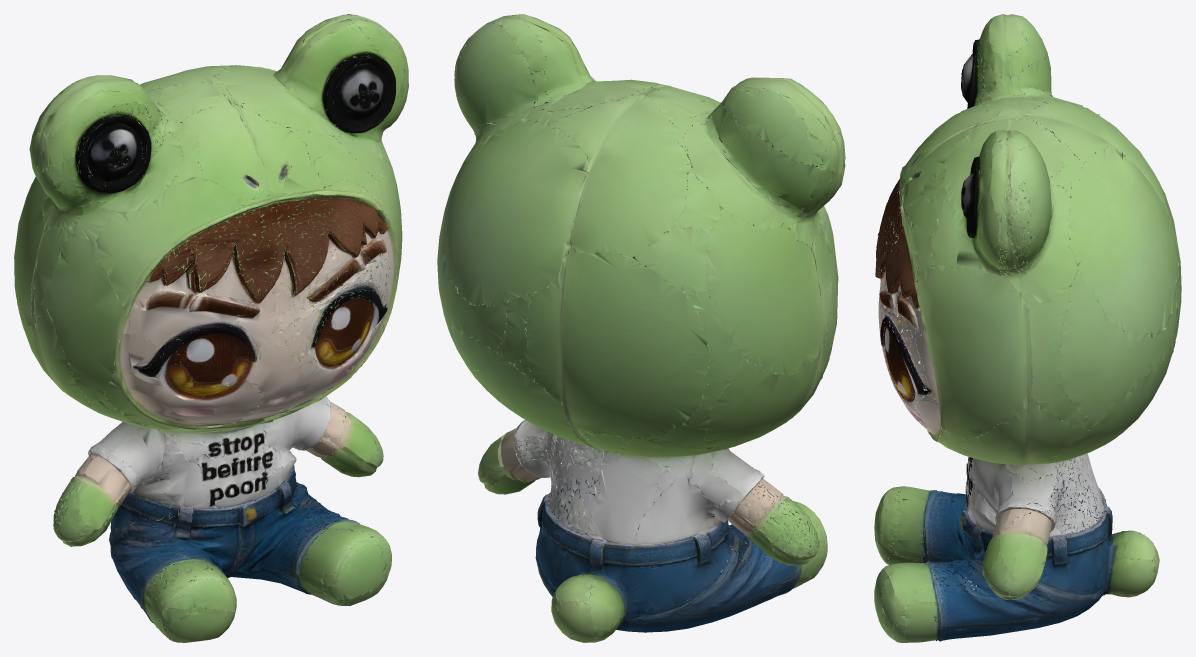
Rendered from radcat.glb.
The picture shows the model from 3 angles, left to right: view 1: azimuth 30°, elevation 25°; view 2: azimuth 150°, elevation 25°; view 3: azimuth 270°, elevation 25°; orthographic projection. The views are drawn at different scales.
Parts seen in each view (by area): view 1: node_0; view 2: node_0; view 3: node_0.
Boxes of the visible parts, left/top/right/bottom form: node_0: left=14, top=14, right=408, bottom=642; node_0: left=437, top=14, right=845, bottom=642; node_0: left=874, top=14, right=1181, bottom=642.
Bounding box in the file's own units: 0.7523 × 1.04 × 0.5564.
1 material, 1 textured.
